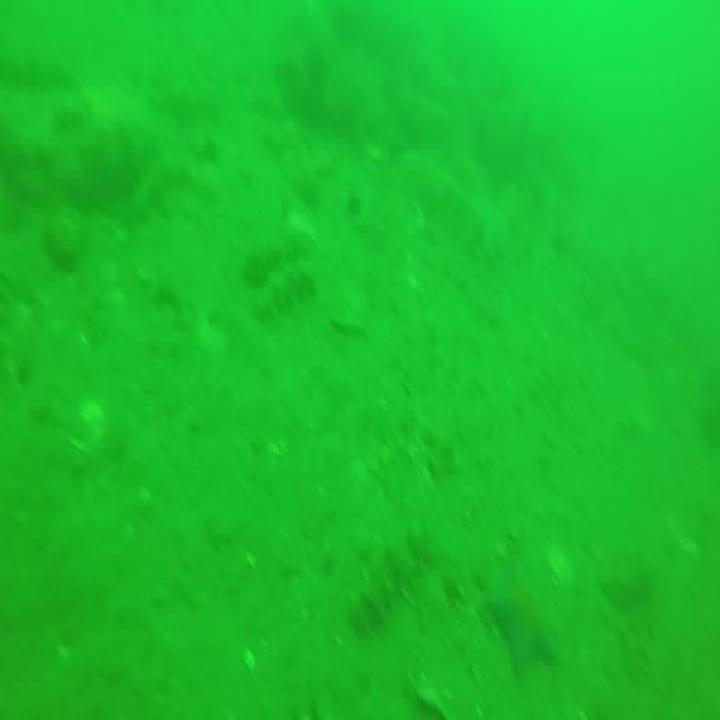holothurian: (349, 539, 441, 629), (254, 272, 327, 322), (245, 234, 312, 274)
scallop: (63, 397, 110, 452)
starfish: (483, 548, 558, 670)
